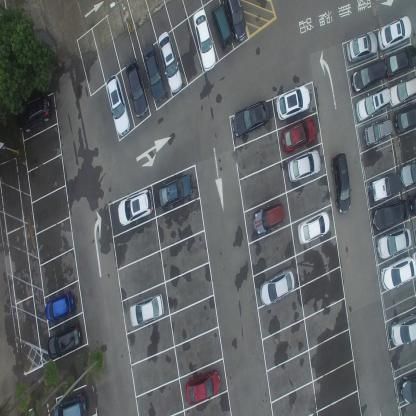car: (190, 6, 216, 70), (157, 30, 182, 95), (105, 74, 130, 138), (14, 91, 50, 134), (231, 100, 269, 140), (124, 58, 148, 119), (117, 187, 153, 227), (259, 266, 295, 306), (142, 43, 165, 104), (352, 55, 388, 93), (280, 116, 316, 154), (376, 14, 412, 52), (276, 83, 311, 122), (330, 152, 352, 214), (380, 256, 416, 293), (47, 322, 82, 360), (186, 368, 221, 406), (128, 293, 164, 328), (356, 86, 391, 121), (287, 148, 321, 184), (158, 174, 192, 210), (376, 226, 412, 260), (297, 210, 330, 245), (372, 200, 407, 233), (220, 0, 247, 42), (253, 201, 285, 236), (210, 2, 232, 52), (384, 44, 416, 78), (346, 29, 378, 62), (389, 312, 416, 348), (45, 289, 74, 322), (370, 171, 401, 201), (364, 116, 394, 146), (388, 73, 415, 106), (51, 390, 86, 415), (394, 105, 416, 135), (400, 374, 416, 405), (400, 159, 416, 188), (408, 193, 415, 218)
